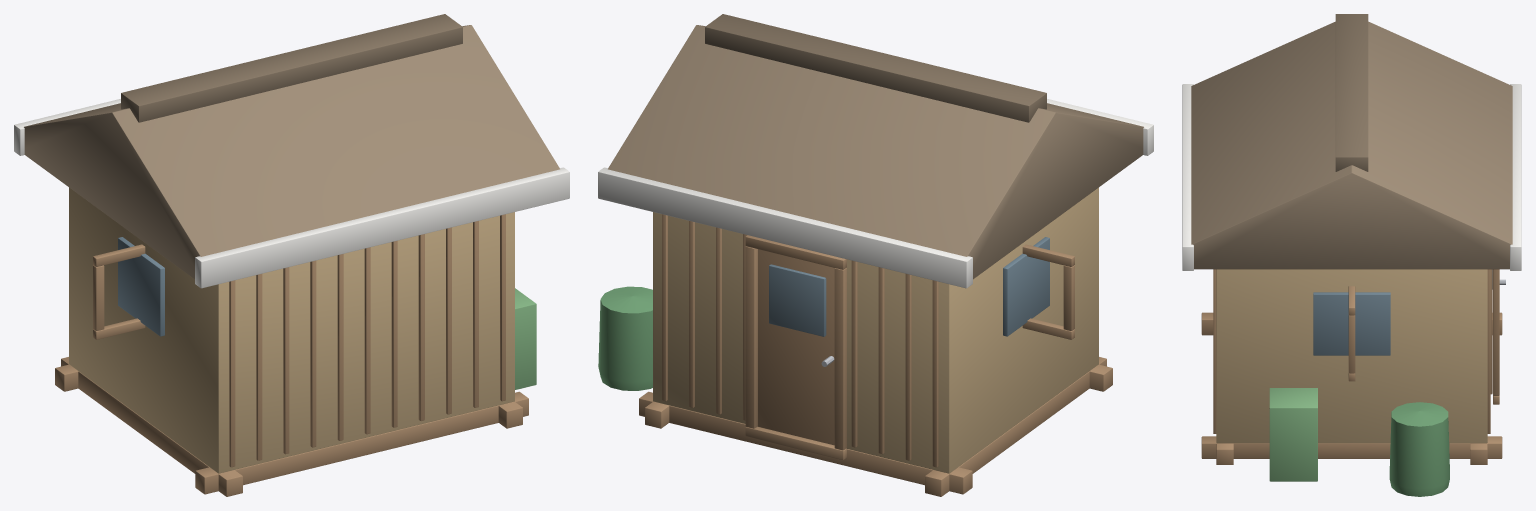
Rendered from th47_gartenhaus.glb.
3 views of the same model, side by side, from view 1: azimuth 30°, elevation 25°; view 2: azimuth 150°, elevation 25°; view 3: azimuth 270°, elevation 25° (orthographic). The views are drawn at different scales.
Visible parts, largest first — view 1: Cube.004, Satteldach, Cube.043, Cube.045, Cube, Cube.033, Cube.001, Cube.047, Cube.005, Cube.009, Cube.011, Cube.013 (+10 smaller); view 2: Satteldach, Cube.004, Cube.044, Cube.045, Cube.027, Tonne, Cube.002, Cube.028, Cube.033, Cube.001, Cube.031, Cube.032 (+12 smaller); view 3: Satteldach, Cube.004, Tonne, Cube.045, Cube.038, Cube.047, Cube.003, Cube.043, Cube.044, Cube.032, Cube.025, Cube.026 (+4 smaller).
Boxes of the visible parts, box(x1,y1,x2,y2) form: Cube.004: box(69, 187, 514, 473); Satteldach: box(24, 25, 559, 279); Cube.043: box(195, 167, 569, 288); Cube.045: box(121, 14, 462, 122); Cube: box(195, 391, 528, 494); Cube.033: box(118, 237, 164, 336); Cube.001: box(61, 357, 242, 496); Cube.047: box(515, 288, 536, 389); Cube.005: box(229, 280, 235, 467); Cube.009: box(283, 267, 289, 454); Cube.011: box(310, 260, 316, 447); Cube.013: box(337, 254, 343, 440); Satteldach: box(608, 25, 1143, 279); Cube.004: box(653, 187, 1098, 473); Cube.044: box(598, 167, 972, 288); Cube.045: box(705, 14, 1046, 122); Cube.027: box(757, 249, 834, 445); Tonne: box(598, 286, 652, 390); Cube.002: box(639, 391, 972, 494); Cube.028: box(769, 264, 826, 336); Cube.033: box(1003, 237, 1049, 336); Cube.001: box(925, 357, 1106, 496); Cube.031: box(834, 268, 846, 450); Cube.032: box(745, 246, 757, 428); Satteldach: box(1191, 21, 1512, 269); Cube.004: box(1216, 269, 1487, 443); Tonne: box(1389, 402, 1449, 496); Cube.045: box(1335, 14, 1368, 171); Cube.038: box(1313, 292, 1390, 355); Cube.047: box(1269, 388, 1317, 481); Cube.003: box(1201, 436, 1502, 458); Cube.043: box(1182, 84, 1193, 270); Cube.044: box(1510, 84, 1521, 270); Cube.032: box(1493, 269, 1499, 395); Cube.025: box(1213, 269, 1216, 433); Cube.026: box(1487, 269, 1490, 433).
Size of the model in its own units: 4.67 by 3.51 by 3.5.
